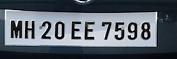0: (54, 19, 64, 39)
2: (39, 20, 51, 38)
5: (113, 20, 125, 41)
7: (100, 20, 112, 40)
8: (139, 20, 151, 40)
9: (126, 20, 137, 39)
E: (70, 19, 81, 39), (83, 20, 94, 39)
H: (23, 19, 36, 38)
M: (9, 19, 22, 38)
